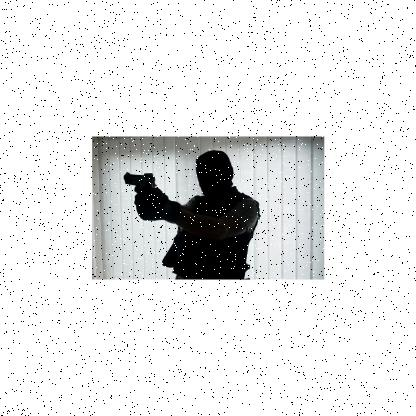gun: (120, 170, 160, 221)
